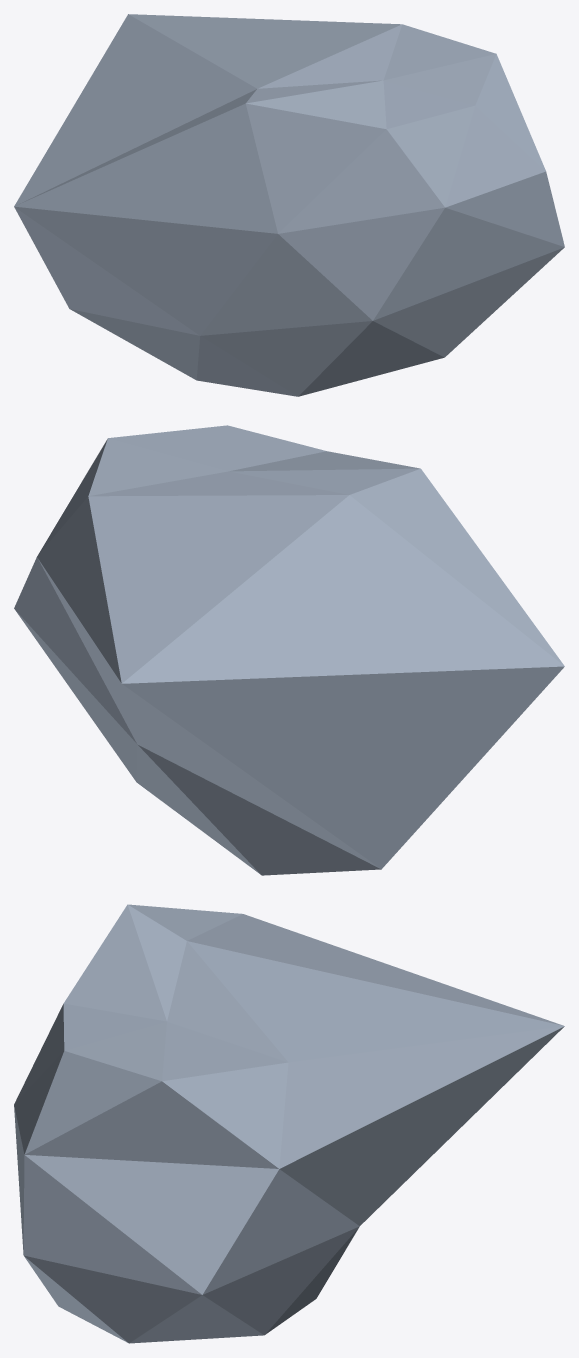
Rendered from stone.fbx.
The picture shows the model from 3 angles, top to bottom: view 1: azimuth 30°, elevation 25°; view 2: azimuth 150°, elevation 25°; view 3: azimuth 270°, elevation 25°; orthographic projection. The views are drawn at different scales.
Visible parts, largest first — view 1: polySurface154; view 2: polySurface154; view 3: polySurface154.
Part boxes in pixels (box(x1,y1,x2,y2)): polySurface154: box(14, 14, 564, 396); polySurface154: box(14, 425, 564, 875); polySurface154: box(14, 904, 564, 1343).
Bounding box in the file's own units: 5.15 × 3.07 × 4.23.
